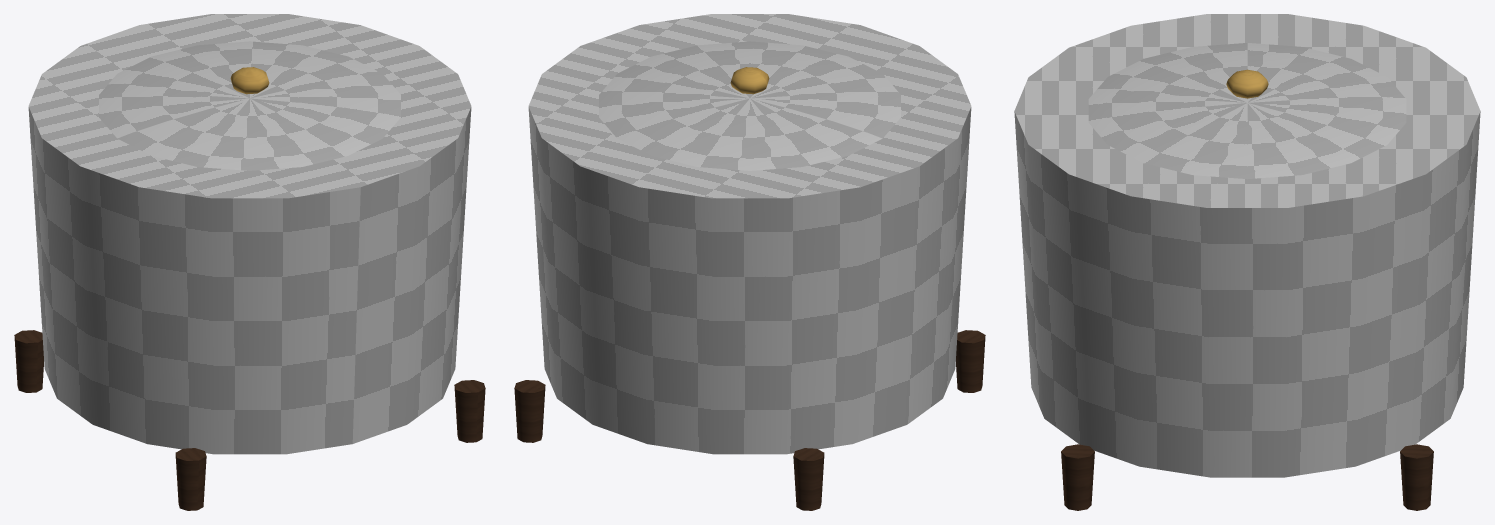
Rendered from ottoman.glb.
3 renders of one model, left to right at view 1: azimuth 30°, elevation 25°; view 2: azimuth 150°, elevation 25°; view 3: azimuth 270°, elevation 25°, orthographic. The views are drawn at different scales.
Visible parts, largest first — view 1: dyn_velvet_variant, ottoman; view 2: dyn_velvet_variant, ottoman; view 3: dyn_velvet_variant, ottoman.
Part boxes in pixels (x1,y1,x2,y2): dyn_velvet_variant: (28,14,471,454); ottoman: (14,67,485,510); dyn_velvet_variant: (528,14,971,454); ottoman: (514,67,985,510); dyn_velvet_variant: (1014,14,1480,477); ottoman: (1061,69,1433,510).
Size of the model in its own units: 0.5418 by 0.4701 by 0.5501.
Materials: 3 (3 with a texture image).
